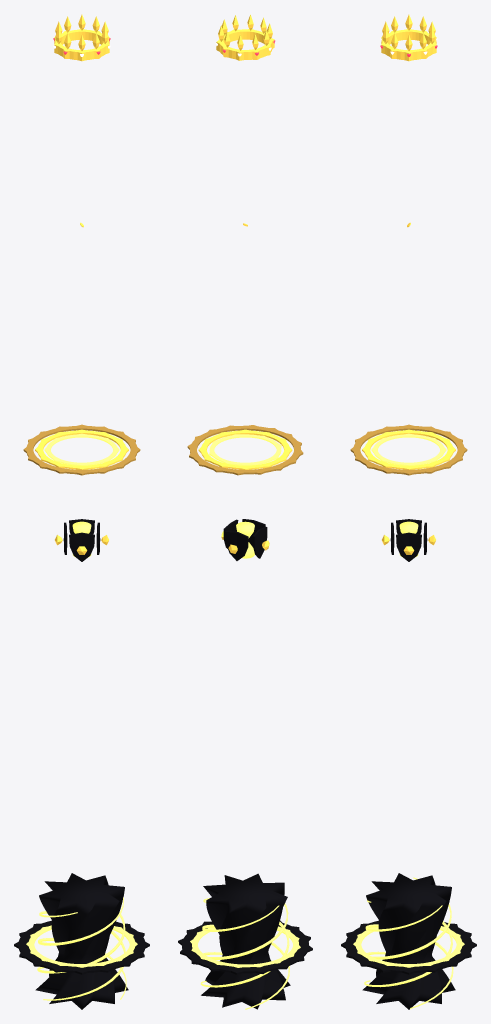
The model's file is cinematic_midas_vault.glb.
The picture shows the model from 3 angles, left to right: view 1: azimuth 90°, elevation 25°; view 2: azimuth 150°, elevation 25°; view 3: azimuth 270°, elevation 25°; orthographic projection.
Visible parts, largest first — view 1: MidasSovereignPillar_InkCore, MidasDecreeRing, AstrolabeOuterGimbal, AstrolabeMidGimbal, MidasCrownBand, MidasDecreeGlow, AstrolabeInnerGimbal, BastionShield_Left_Body, MidasSovereignPillar_EnergyVein_2, MidasSovereignPillar_EnergyVein_1; view 2: MidasSovereignPillar_InkCore, MidasDecreeRing, AstrolabeOuterGimbal, AstrolabeMidGimbal, MidasCrownBand, MidasDecreeGlow, AstrolabeInnerGimbal, BastionShield_Back_Body, MidasSovereignPillar_EnergyVein_1, MidasSovereignPillar_EnergyVein_2, MidasSovereignPillar_EnergyVein_0, ChronosHourglassBulb (+1 smaller); view 3: MidasSovereignPillar_InkCore, MidasDecreeRing, AstrolabeOuterGimbal, AstrolabeMidGimbal, MidasCrownBand, MidasDecreeGlow, AstrolabeInnerGimbal, BastionShield_Right_Body, MidasSovereignPillar_EnergyVein_0, MidasSovereignPillar_EnergyVein_1, MidasSovereignPillar_EnergyVein_2.
Boxes of the visible parts, <box> form: MidasSovereignPillar_InkCore: <box>35,873,128,1009</box>; MidasDecreeRing: <box>14,920,149,974</box>; AstrolabeOuterGimbal: <box>23,424,140,475</box>; AstrolabeMidGimbal: <box>35,429,128,469</box>; MidasCrownBand: <box>54,29,109,61</box>; MidasDecreeGlow: <box>26,925,137,967</box>; AstrolabeInnerGimbal: <box>44,433,119,465</box>; BastionShield_Left_Body: <box>69,532,94,561</box>; MidasSovereignPillar_EnergyVein_2: <box>38,897,126,999</box>; MidasSovereignPillar_EnergyVein_1: <box>39,911,125,1000</box>; MidasSovereignPillar_InkCore: <box>201,873,290,1009</box>; MidasDecreeRing: <box>178,920,312,974</box>; AstrolabeOuterGimbal: <box>187,425,303,475</box>; AstrolabeMidGimbal: <box>198,429,292,469</box>; MidasCrownBand: <box>216,29,274,60</box>; MidasDecreeGlow: <box>190,926,300,967</box>; AstrolabeInnerGimbal: <box>209,434,281,465</box>; BastionShield_Back_Body: <box>225,531,248,560</box>; MidasSovereignPillar_EnergyVein_1: <box>202,905,289,1009</box>; MidasSovereignPillar_EnergyVein_2: <box>203,903,288,959</box>; MidasSovereignPillar_EnergyVein_0: <box>200,898,289,987</box>; ChronosHourglassBulb: <box>236,521,254,558</box>; MidasSovereignPillar_InkCore: <box>362,873,455,1009</box>; MidasDecreeRing: <box>341,920,476,974</box>; AstrolabeOuterGimbal: <box>350,424,467,475</box>; AstrolabeMidGimbal: <box>362,429,455,469</box>; MidasCrownBand: <box>381,29,436,61</box>; MidasDecreeGlow: <box>353,926,464,967</box>; AstrolabeInnerGimbal: <box>371,433,446,465</box>; BastionShield_Right_Body: <box>396,532,421,561</box>; MidasSovereignPillar_EnergyVein_0: <box>365,905,453,1008</box>; MidasSovereignPillar_EnergyVein_1: <box>367,877,451,959</box>; MidasSovereignPillar_EnergyVein_2: <box>364,900,452,987</box>.
Size of the model in its own units: 0.0547 by 0.4294 by 0.0547.
